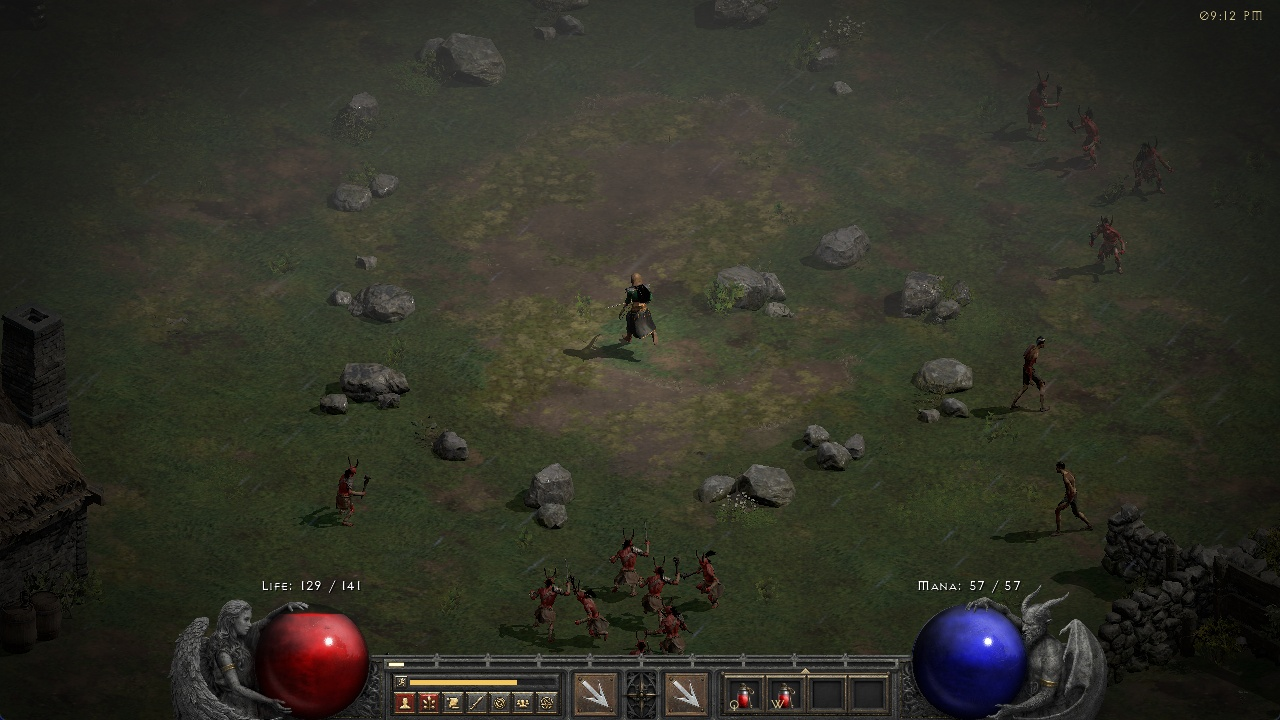fallen: (326, 452, 376, 534), (1011, 74, 1065, 146), (1085, 215, 1142, 280), (605, 523, 652, 591), (525, 568, 573, 631), (1068, 106, 1110, 171), (1126, 138, 1174, 194), (685, 543, 723, 608), (652, 604, 699, 656), (574, 580, 608, 644), (645, 555, 681, 602)
